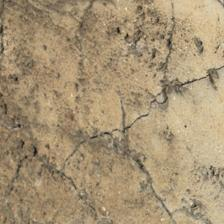Crack: (39, 59, 101, 145), (57, 62, 164, 108), (64, 66, 113, 156), (18, 144, 85, 170)
